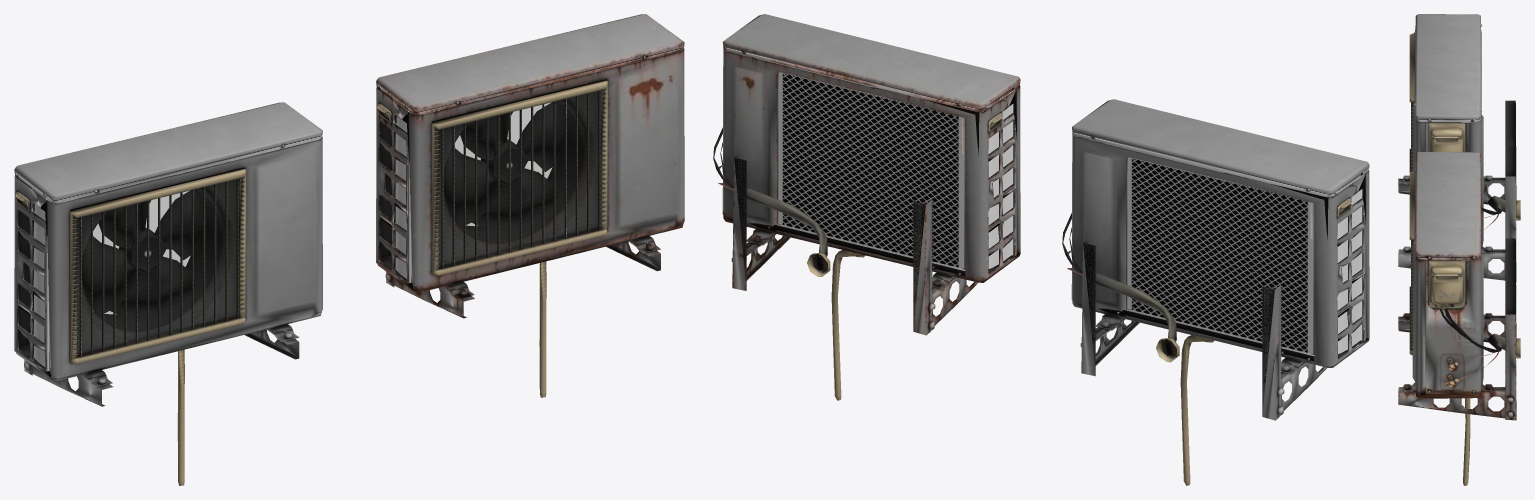
The model's file is exterior-aircon-unit.glb.
3 renders of one model, left to right at view 1: azimuth 30°, elevation 25°; view 2: azimuth 150°, elevation 25°; view 3: azimuth 270°, elevation 25°, orthographic. The views are drawn at different scales.
Parts seen in each view (by area): view 1: exterior_aircon_unit_rusted, exterior_aircon_unit; view 2: exterior_aircon_unit_rusted, exterior_aircon_unit; view 3: exterior_aircon_unit_rusted, exterior_aircon_unit.
Boxes of the visible parts, x1=… form: exterior_aircon_unit_rusted: x1=376, y1=14, x2=684, y2=397; exterior_aircon_unit: x1=14, y1=102, x2=322, y2=485; exterior_aircon_unit_rusted: x1=713, y1=14, x2=1020, y2=400; exterior_aircon_unit: x1=1062, y1=99, x2=1369, y2=485; exterior_aircon_unit_rusted: x1=1398, y1=151, x2=1520, y2=485; exterior_aircon_unit: x1=1398, y1=14, x2=1520, y2=282.
Bounding box in the file's own units: 1.75 × 0.9026 × 0.364.
Materials: 4 (4 with a texture image).
